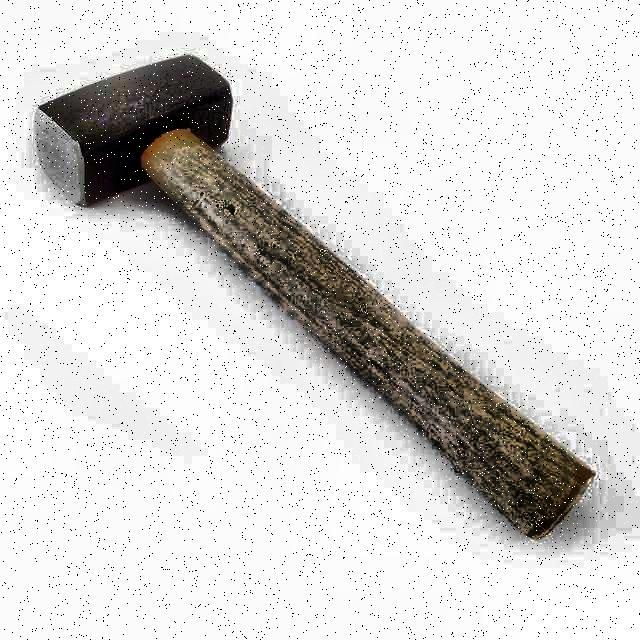hammer: (34, 54, 596, 540)
